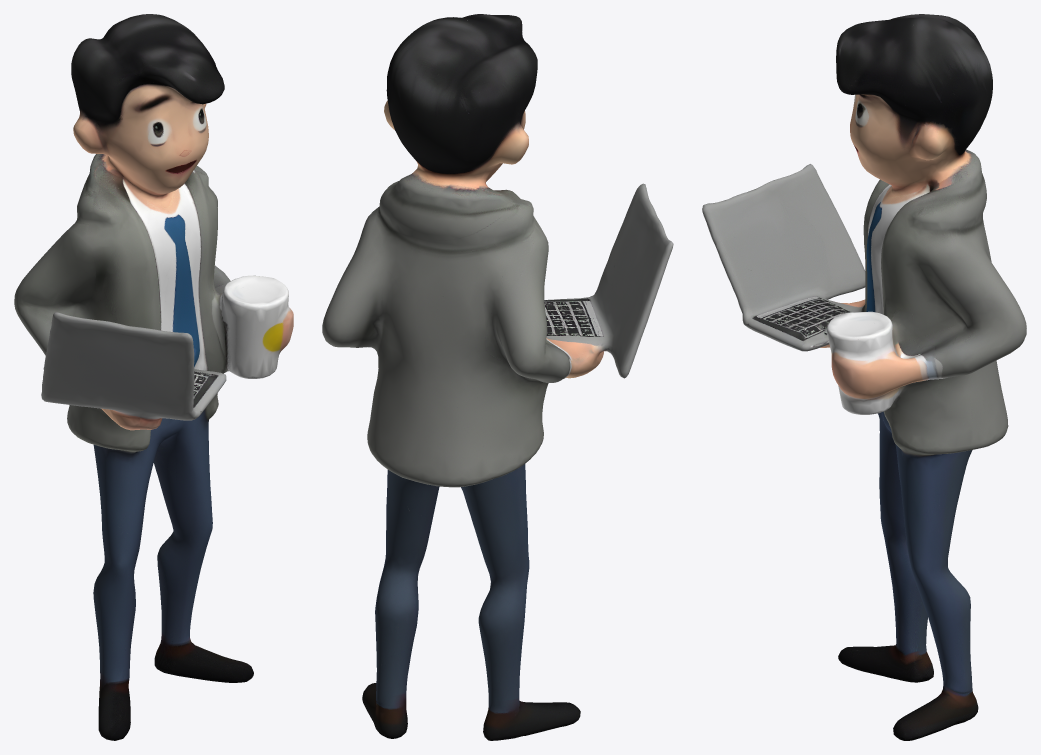
Rendered from worker.glb.
3 views of the same model, side by side, from view 1: azimuth 30°, elevation 25°; view 2: azimuth 150°, elevation 25°; view 3: azimuth 270°, elevation 25° (orthographic). The views are drawn at different scales.
Bounding box in the file's own units: 0.7801 × 1.91 × 0.8349.
Materials: 1 (1 with a texture image).
